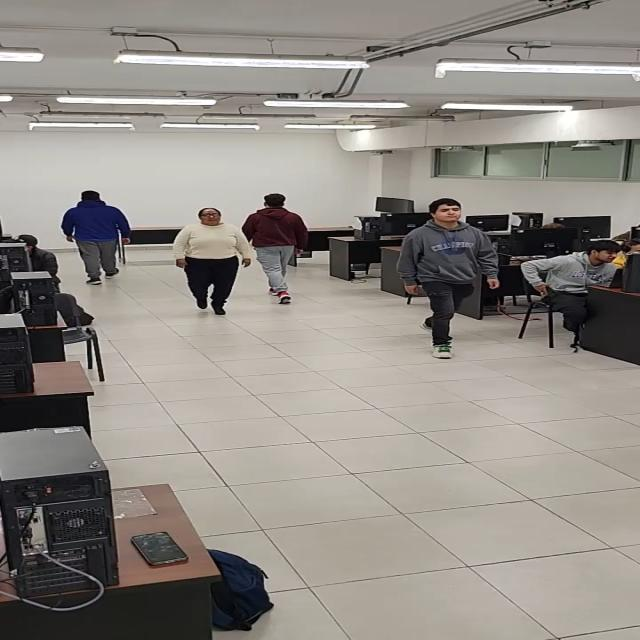Persona: (391, 196, 501, 360), (167, 204, 250, 319), (58, 187, 135, 288), (247, 189, 309, 309)
